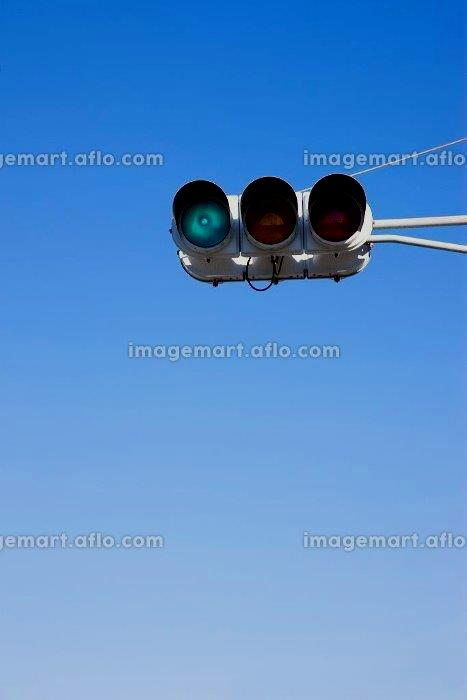cars: (170, 178, 375, 247)
